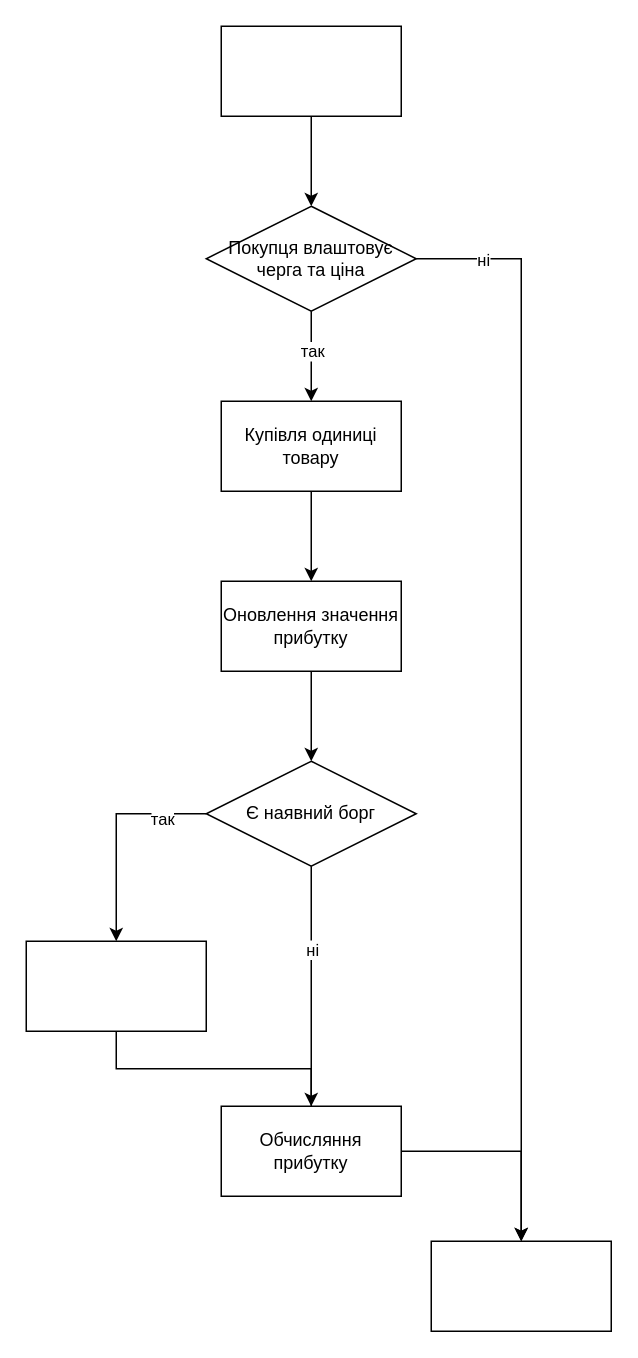
The diagram is 638 pixels wide and 1358 high, and some of its shapes have lost their labels. The centre of each missing label's shape, as x and y in pixels:
"Вихід з магазину" goes at point 520,1285.
"Гасіння боргу" goes at point 115,985.
"Прихід покупця" goes at point 310,70.
